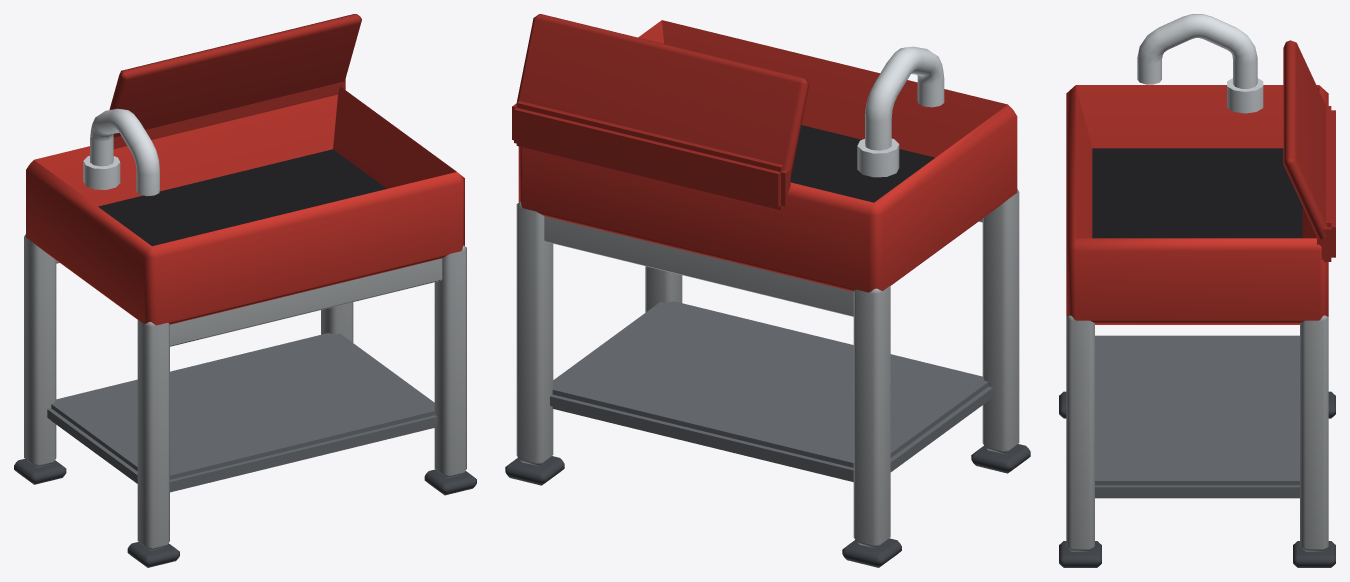
Rendered from SM_PartsWasher_01.glb.
The picture shows the model from 3 angles, left to right: view 1: azimuth 30°, elevation 25°; view 2: azimuth 150°, elevation 25°; view 3: azimuth 270°, elevation 25°; orthographic projection. The views are drawn at different scales.
Visible parts, largest first — view 1: SM_PartsWasher_01; view 2: SM_PartsWasher_01; view 3: SM_PartsWasher_01.
Part boxes in pixels (x1,y1,x2,y2): SM_PartsWasher_01: [14, 14, 476, 567]; SM_PartsWasher_01: [505, 14, 1030, 567]; SM_PartsWasher_01: [1059, 14, 1335, 567].
Size of the model in its own units: 0.83 by 0.9492 by 0.58.
1 material, 1 textured.
